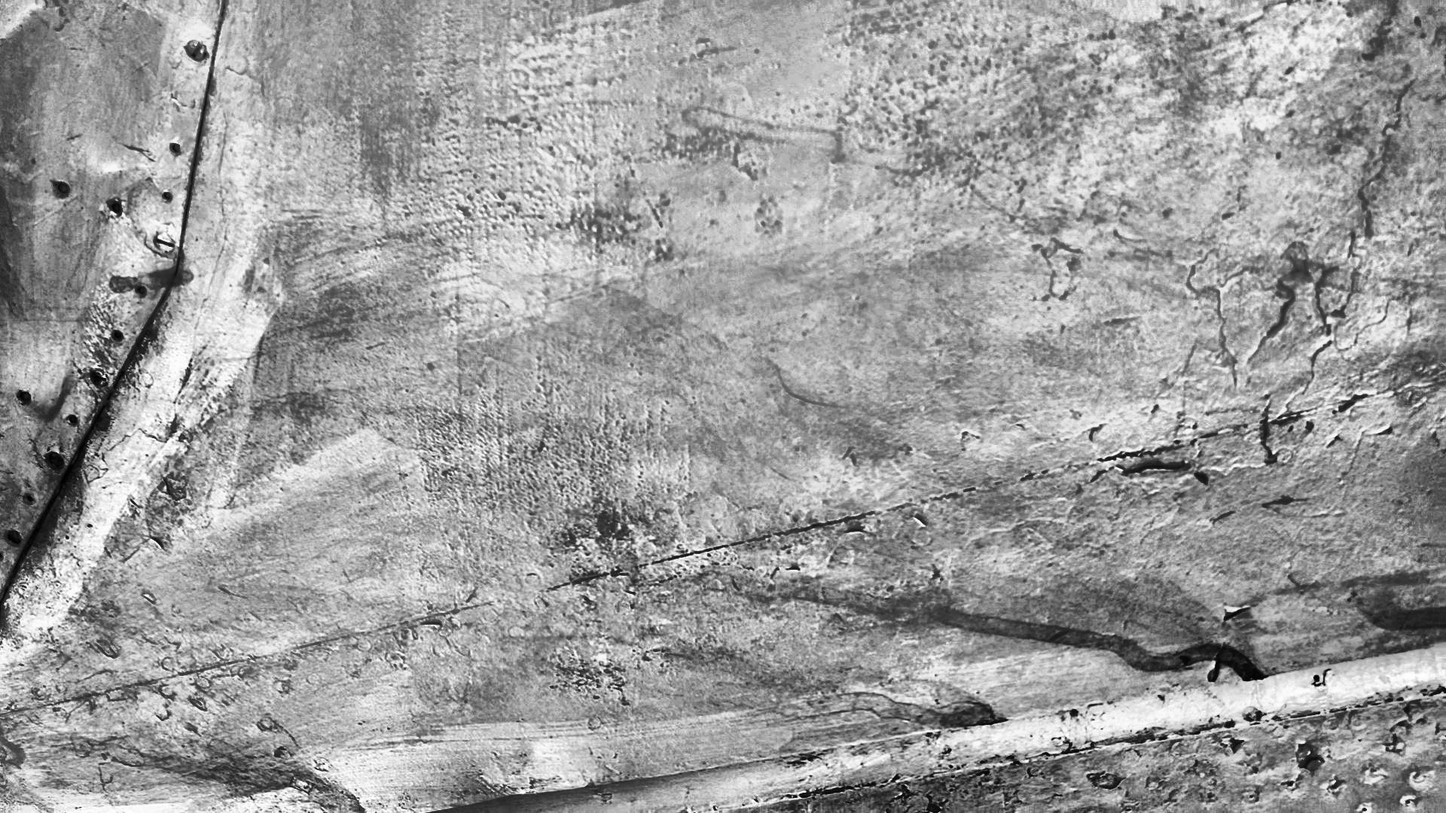missing-head: (47, 450, 62, 469), (90, 371, 107, 386), (8, 529, 21, 546), (109, 196, 120, 215), (134, 284, 147, 297), (66, 414, 81, 425), (169, 143, 183, 154), (111, 329, 122, 343), (19, 390, 30, 403), (24, 493, 34, 506), (162, 192, 171, 201)
paint-peel-off: (1115, 450, 1194, 472), (1224, 606, 1248, 623), (1303, 755, 1320, 772)
